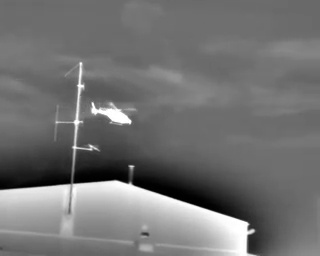HELICOPTER: (89, 95, 142, 132)
